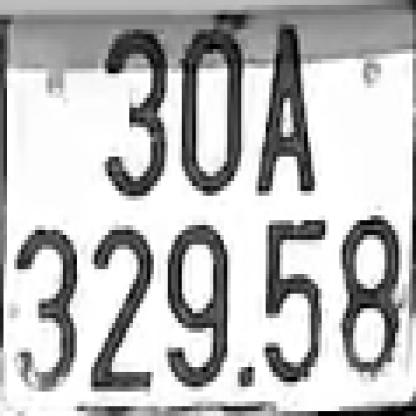0: (182, 34, 241, 191)
2: (95, 230, 150, 382)
3: (101, 29, 168, 196), (18, 230, 80, 387)
5: (262, 215, 322, 377)
8: (339, 215, 395, 372)
9: (168, 225, 224, 382)
A: (255, 29, 311, 191)
